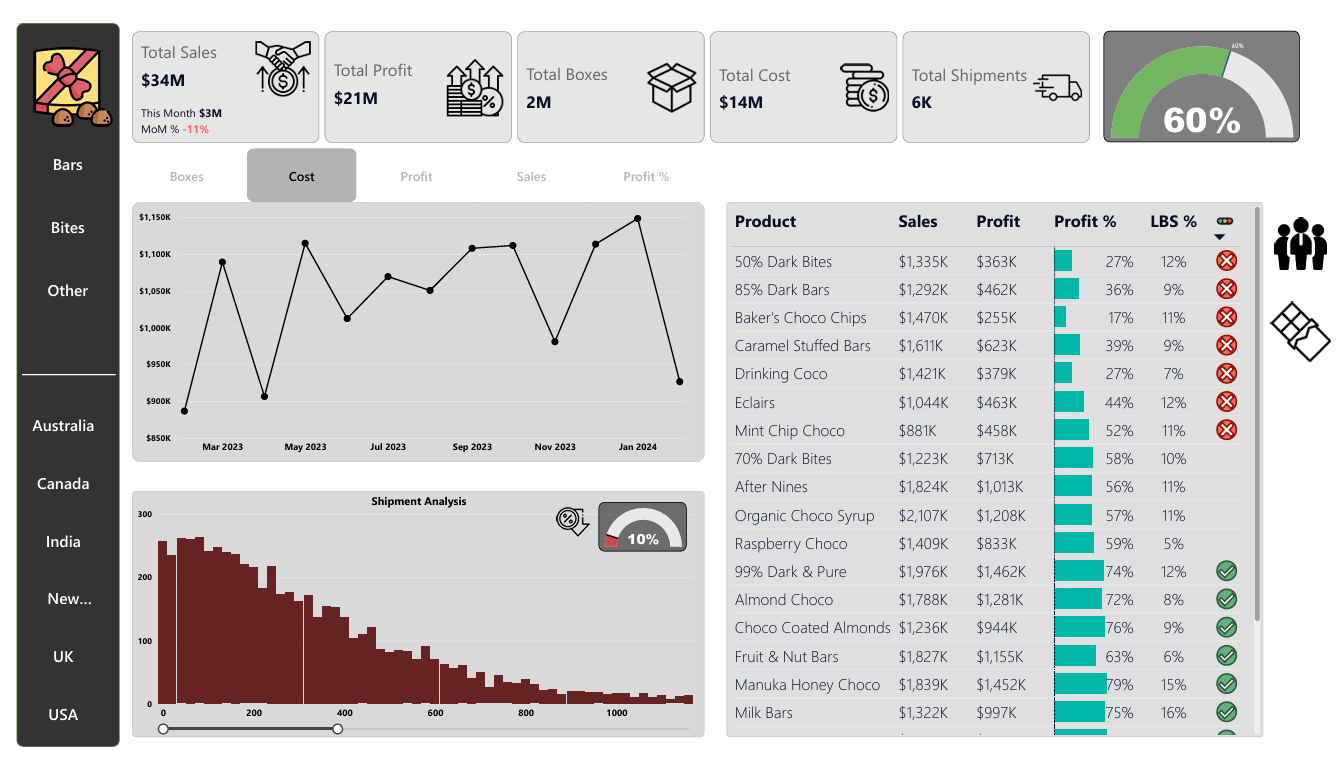

This screenshot's page, from the dashboard's own definition file:
{"tool":"powerbi","page":{"name":"REPORT","canvas":[1920,1080],"ordinal":3},"visuals":[{"type":"shape","box":[0,13.8,150,1052.5],"z":0},{"type":"cardVisual","fields":{"Data":["Measures_.Total Sales","Measures_.Total Profit","Measures_.Total Boxes","Measures_.Total Cost","Measures_.Total Shipments"]},"box":[168,26,1392,162],"z":1000},{"type":"gauge","fields":{"Y":["Measures_.Profit %"]},"box":[1580,25,285,161.7],"z":2000},{"type":"lineChart","fields":{"Y":["Measures_.Total Cost"],"Category":["calendar.Start of Month"]},"box":[168,274,832,378],"z":3000},{"type":"advancedSlicerVisual","fields":{"Values":["Measure Selector.Measure Selector"]},"box":[168,196,832,78],"z":4000},{"type":"columnChart","title":"Shipment Analysis","fields":{"Category":["shipments.Boxes (bins)"],"Y":["Measures_.Total Shipments"]},"box":[168,694,832,358],"z":5000},{"type":"gauge","fields":{"Y":["Measures_.LBS %"]},"box":[846,710,128,72],"z":6000},{"type":"image","box":[754,710,110,58],"z":7000},{"type":"tableEx","title":"Product table","fields":{"Values":["products.Product","Measures_.Total Sales","Measures_.Total Profit","Measures_.Profit %","Measures_.LBS %","Measures_.Target Target Indicator"]},"box":[1032,274,780,778],"z":9000},{"type":"image","title":"Team Icon","box":[1824,288,86,94],"z":10000},{"type":"image","title":"Product Icon","box":[1814,414,106,98],"z":11000},{"type":"advancedSlicerVisual","fields":{"Values":["products.Category"]},"box":[13.3,171.7,123.3,276.7],"z":12000},{"type":"advancedSlicerVisual","fields":{"Values":["shipments.Geography"]},"box":[0,555,136.7,511.7],"z":13000},{"type":"shape","box":[7.5,485,136.2,80],"z":14000},{"type":"image","box":[20,23.3,125,166.7],"z":15000}]}

Visuals, with their boxes in screenshot pixels (x1, y1, x2, y2), scaled from the page's 1920x1080 canvas onto the 1337x757 screenshot:
shape: <bbox>0, 10, 104, 747</bbox>
cardVisual - Measures_.Total Sales x Measures_.Total Profit: <bbox>117, 18, 1086, 132</bbox>
gauge - Measures_.Profit %: <bbox>1100, 18, 1299, 131</bbox>
lineChart - Measures_.Total Cost x calendar.Start of Month: <bbox>117, 192, 696, 457</bbox>
advancedSlicerVisual - Measure Selector.Measure Selector: <bbox>117, 137, 696, 192</bbox>
"Shipment Analysis" columnChart: <bbox>117, 486, 696, 737</bbox>
gauge - Measures_.LBS %: <bbox>589, 498, 678, 548</bbox>
image: <bbox>525, 498, 602, 538</bbox>
"Product table" tableEx: <bbox>719, 192, 1262, 737</bbox>
"Team Icon" image: <bbox>1270, 202, 1330, 268</bbox>
"Product Icon" image: <bbox>1263, 290, 1336, 359</bbox>
advancedSlicerVisual - products.Category: <bbox>9, 120, 95, 314</bbox>
advancedSlicerVisual - shipments.Geography: <bbox>0, 389, 95, 748</bbox>
shape: <bbox>5, 340, 100, 396</bbox>
image: <bbox>14, 16, 101, 133</bbox>
